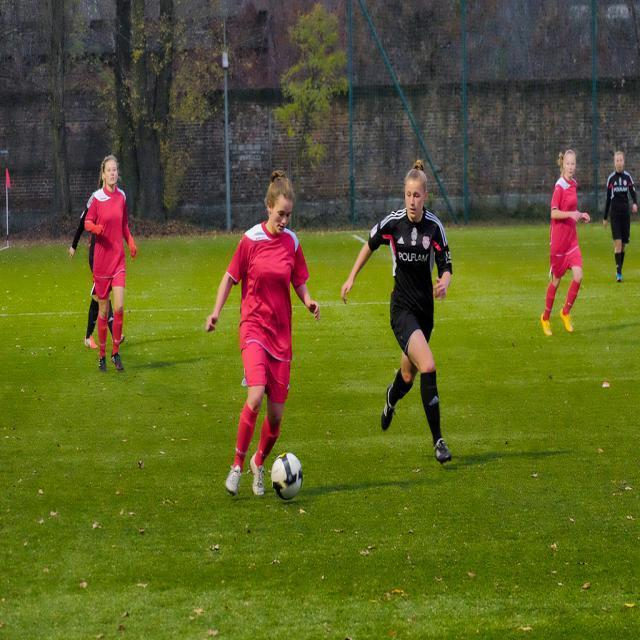football: (248, 441, 316, 505)
